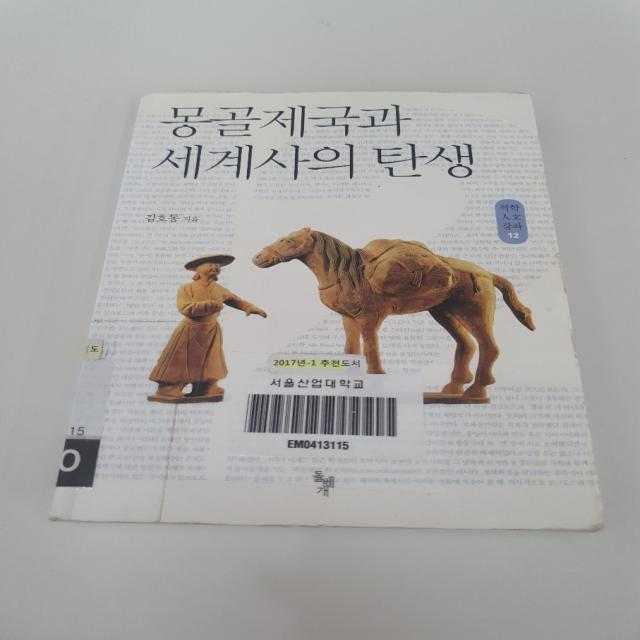Wornout: (481, 507, 613, 534), (429, 86, 533, 101)
